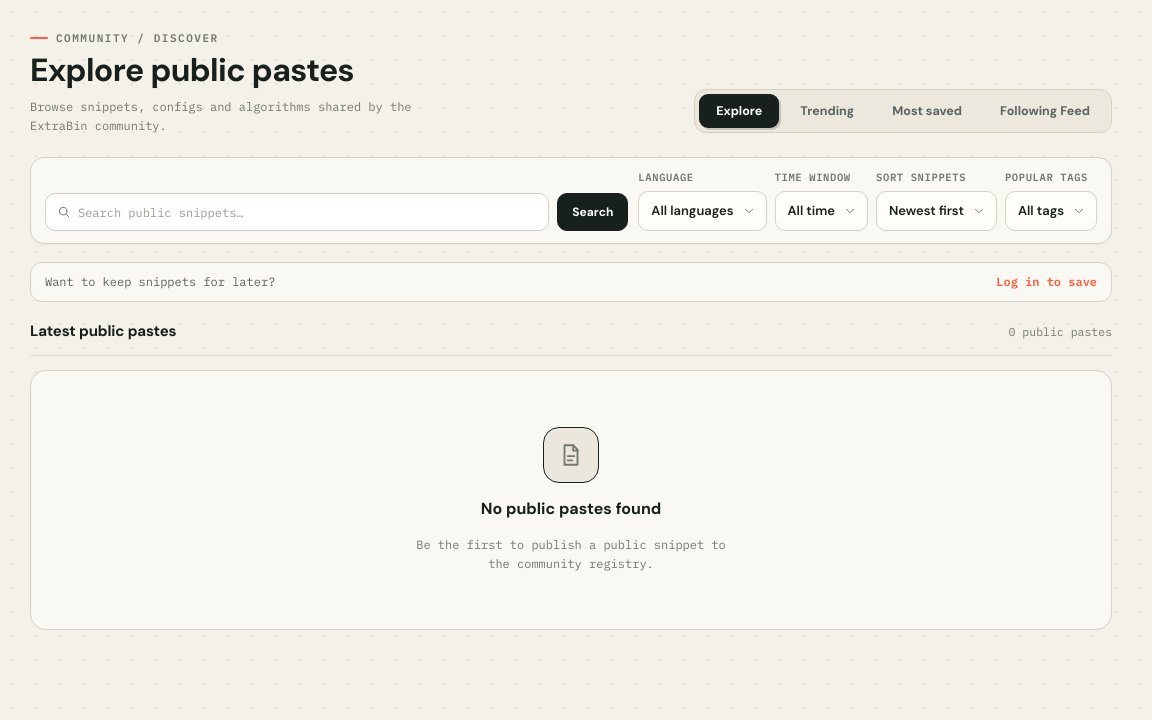
Test: DiscoveryPage redesign contract › RED-D04 clearFilters_restoresLanguageQueryAndDefaults
Expected: the label labelled "Popular tags" is shown, top-left (1005, 170), bottom-right (1097, 186)
Step 1. Select "JavaScript" in the dropdown labelled "Language" → [666, 178], box top-left (638, 170), bottom-right (694, 184)
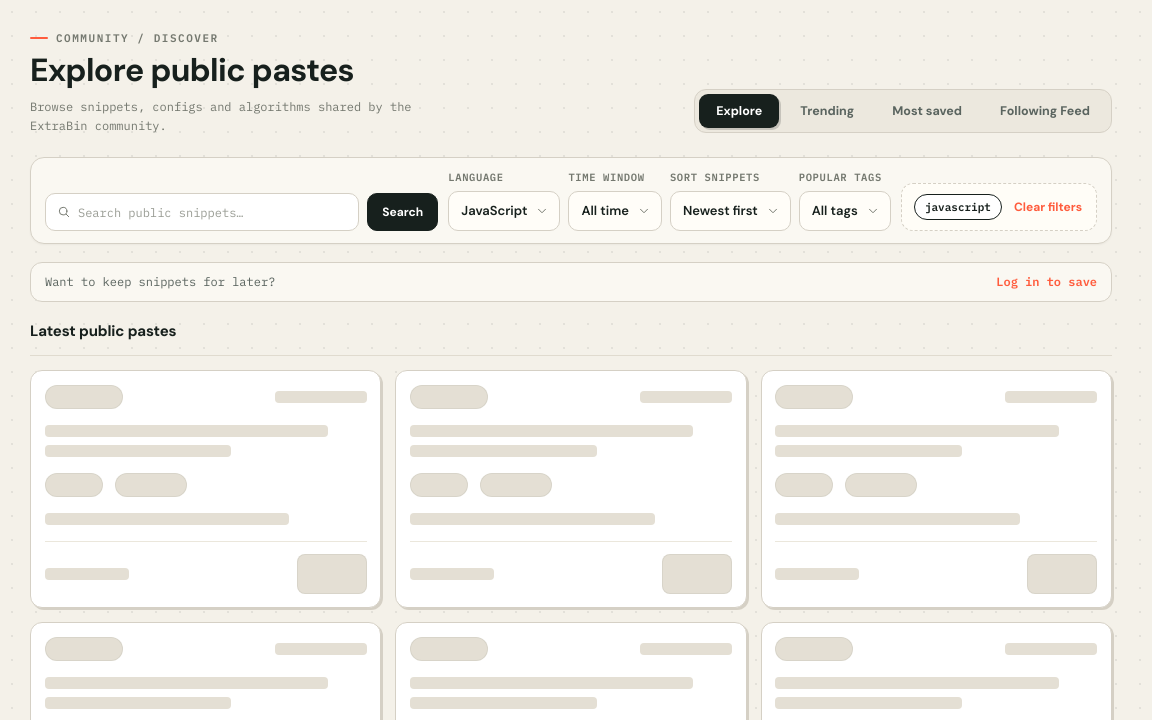
Step 2. Type "kafka" into the field labelled "Search public snippets" → [202, 212], box top-left (45, 193), bottom-right (359, 231)
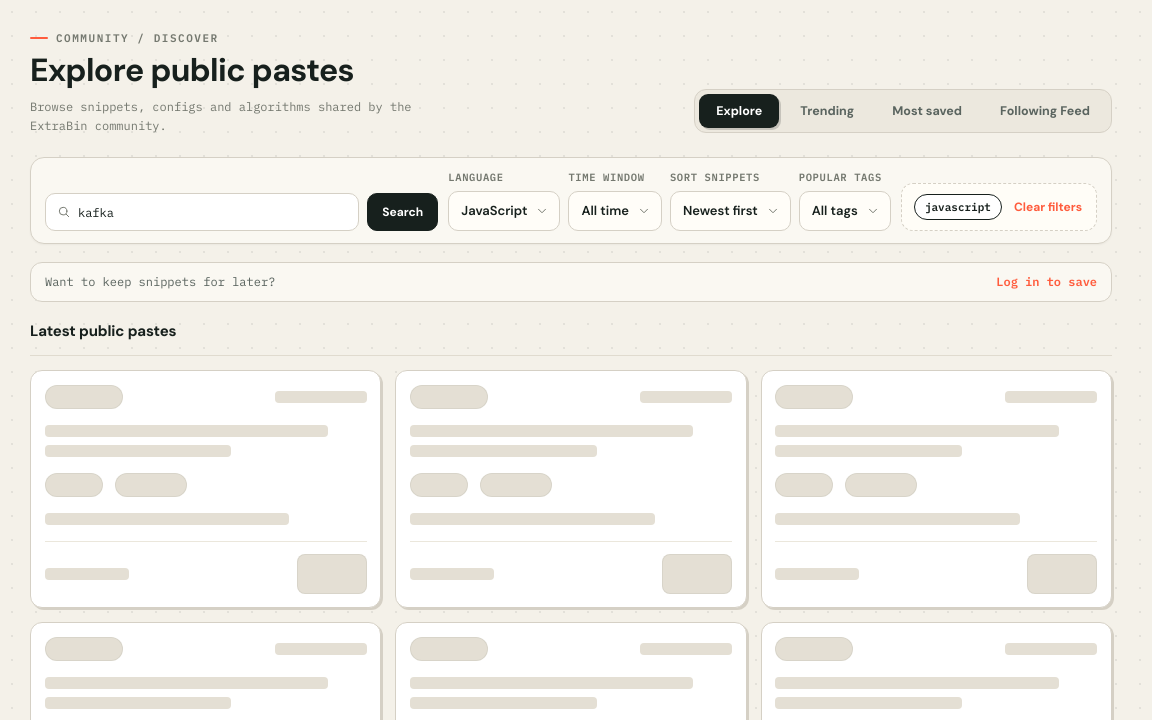
Step 3. Submit the form named "Search public snippets", box top-left (45, 193), bottom-right (438, 231)
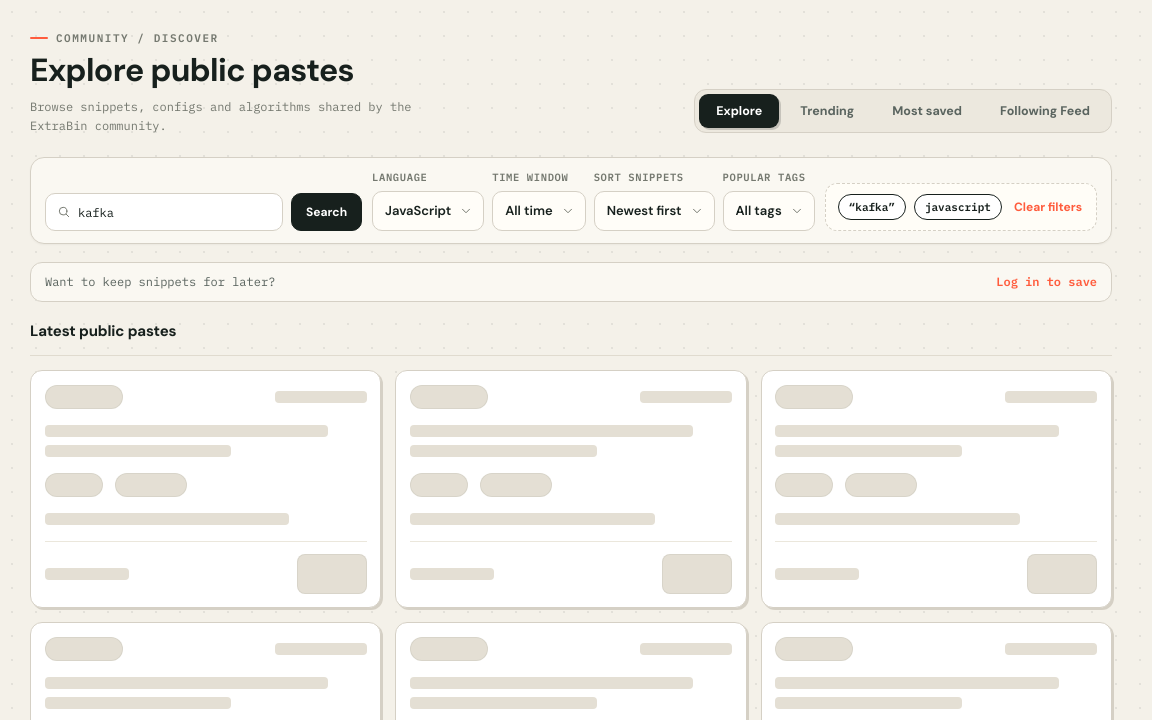
Step 4. Select "#spring" in the dropdown labelled "Popular tags" → [769, 178], box top-left (722, 170), bottom-right (815, 186)
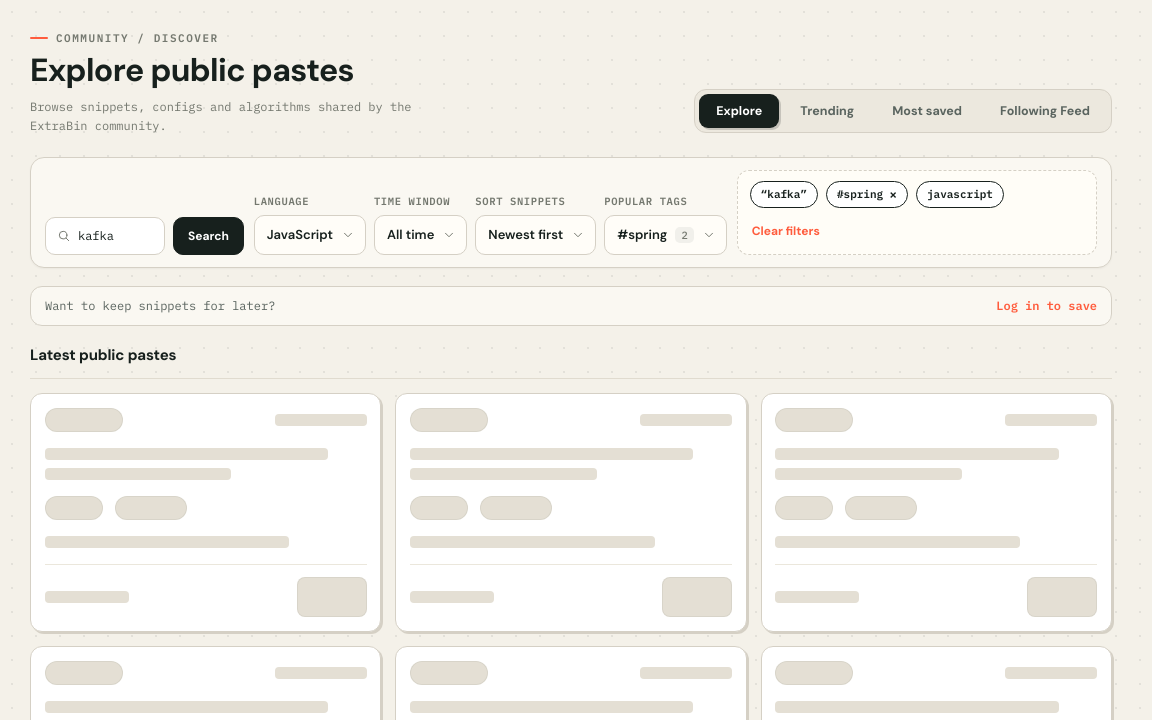
Step 5. Click the button "Clear filters" → [786, 231], box top-left (750, 218), bottom-right (822, 244)
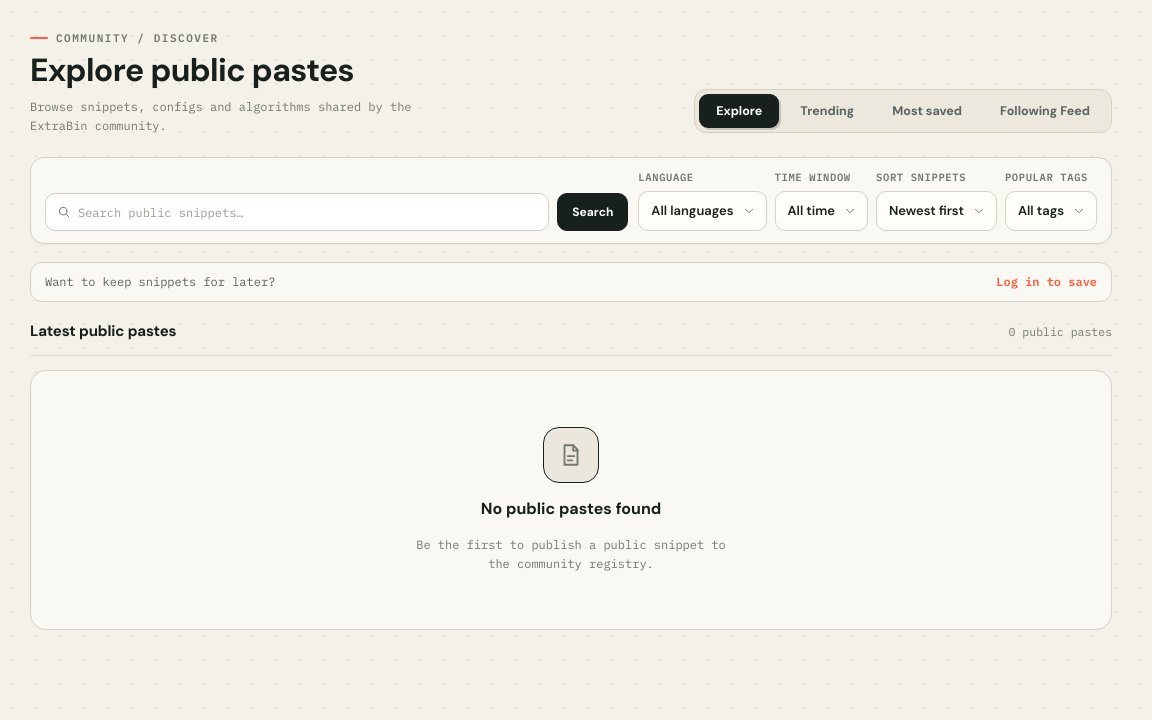
Expected: the field labelled "Search public snippets" is empty, top-left (45, 193), bottom-right (549, 231)
